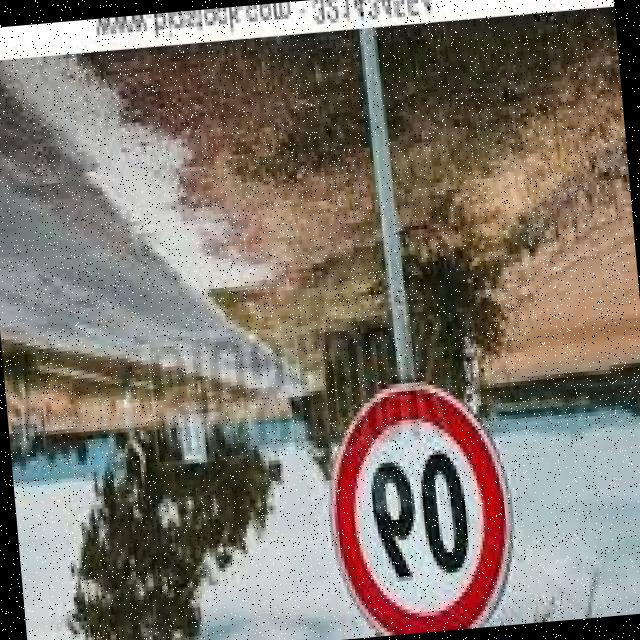speed_limit_60: (312, 371, 519, 640)
